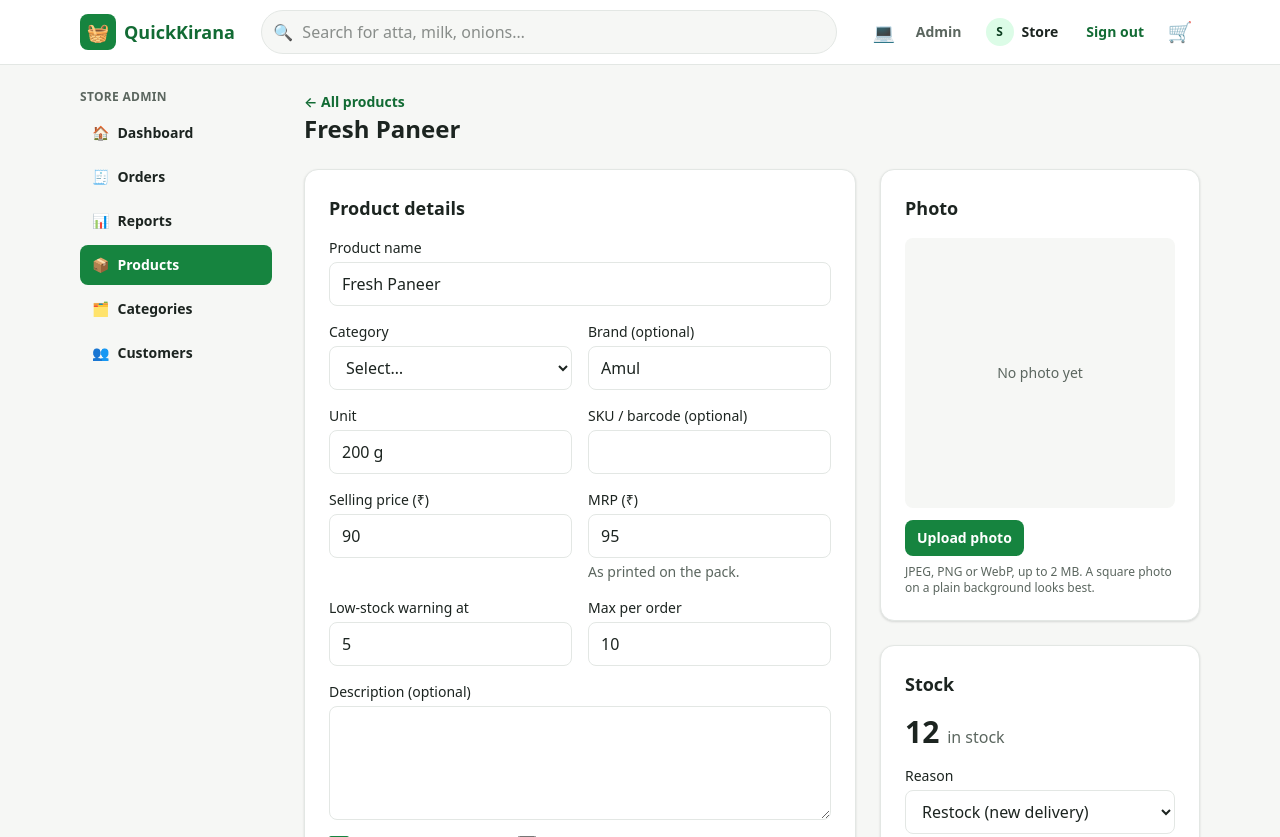
Test: admin product editor › checks MRP against price before saving
The image size is (1280, 837).
Replace the text in the number field labelled "MRP (₹)" with "80". click: (710, 536)
box: [588,514,831,558]
(page scrolled)
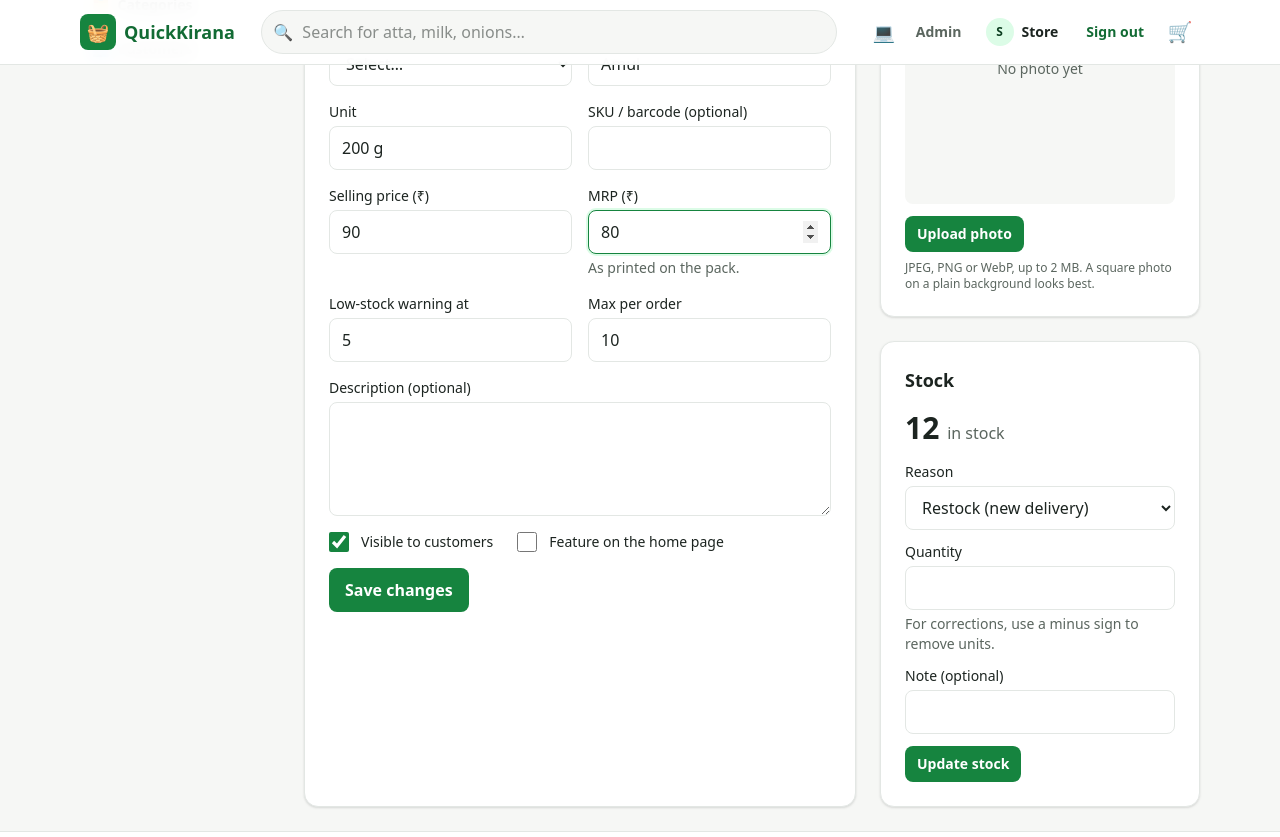
Click the button "Save changes". click: (399, 590)
box: [329,568,469,612]
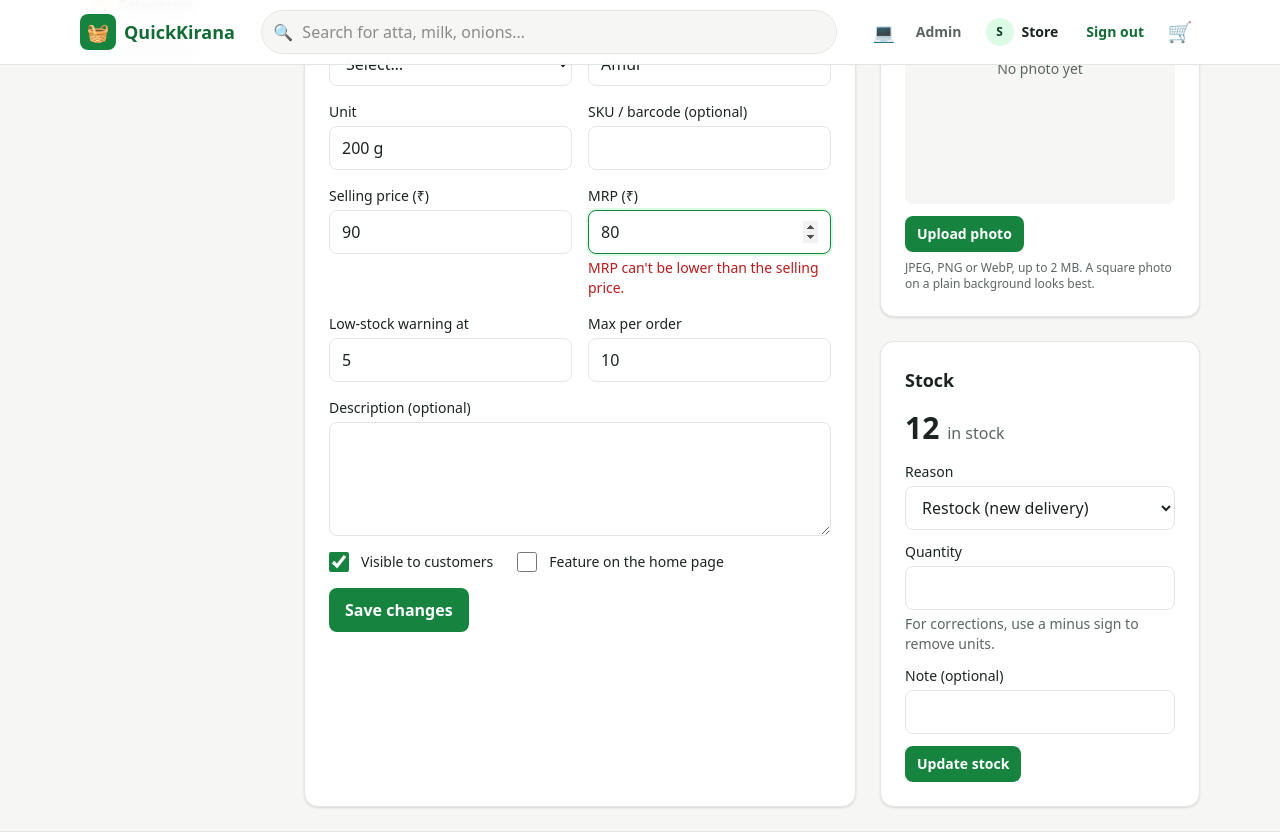
expect the text "MRP can't be lower than the selling price." is shown: met, box [588,258,831,298]
